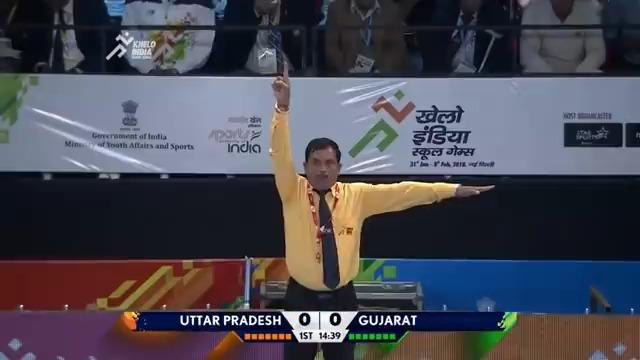referee: (266, 63, 495, 358)
